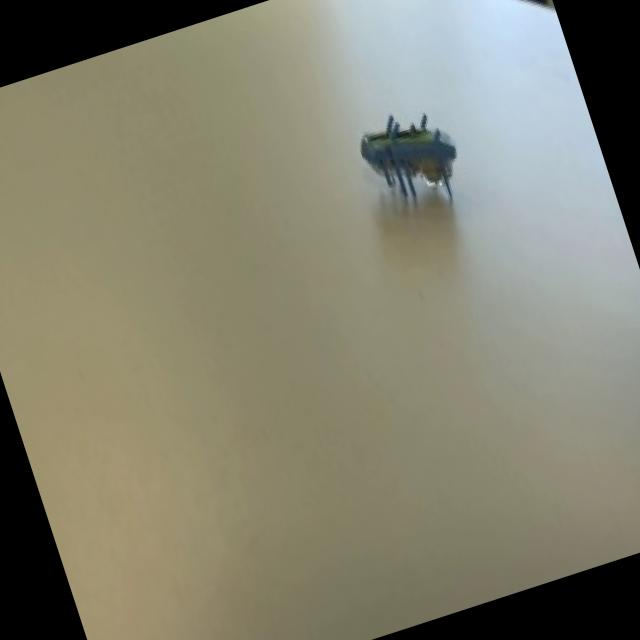3_NanoBug_Celeste: (337, 68, 502, 258)
